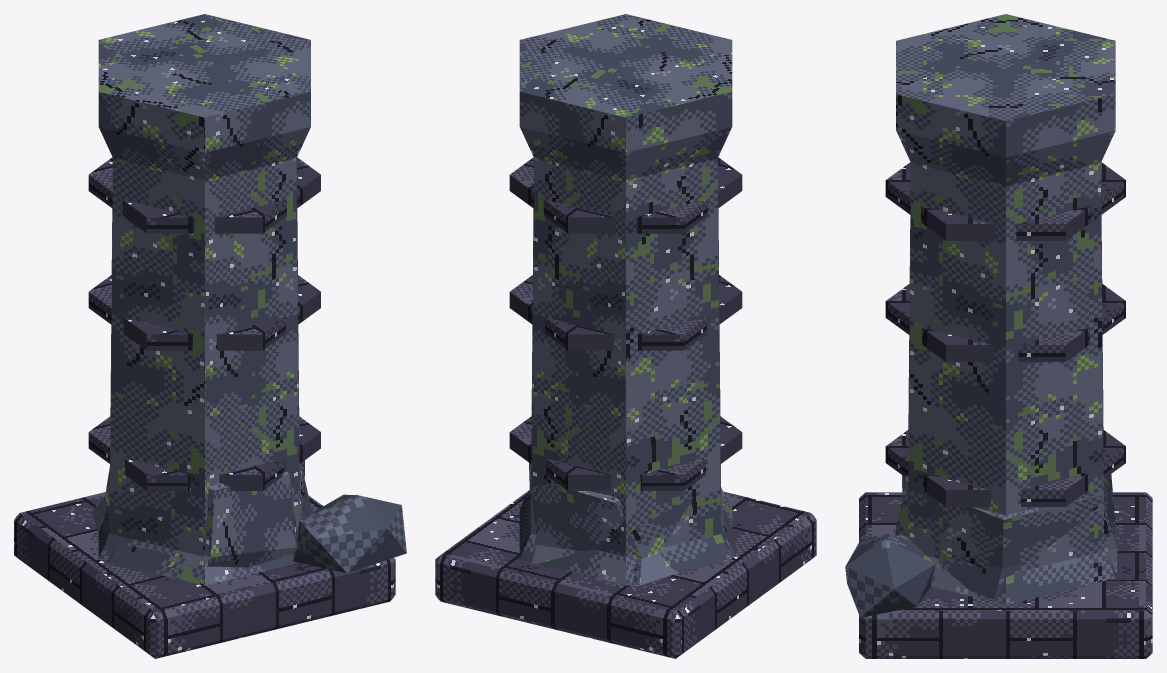
File: summit_pillar.glb
3 views of the same model, side by side, from view 1: azimuth 30°, elevation 25°; view 2: azimuth 150°, elevation 25°; view 3: azimuth 270°, elevation 25° (orthographic). The views are drawn at different scales.
Visible parts, largest first — view 1: Column, Base, Stub; view 2: Column, Base, Stub; view 3: Column, Base, Stub.
Boxes of the visible parts, x1,y1,x2,y2 form: Column: (88, 14, 320, 585); Base: (14, 492, 395, 658); Stub: (91, 460, 406, 574); Column: (509, 14, 742, 585); Base: (435, 490, 816, 658); Stub: (529, 463, 736, 585); Column: (885, 14, 1125, 604); Base: (859, 492, 1152, 658); Stub: (845, 474, 1117, 617).
Bounding box in the file's own units: 2.38 × 4.42 × 2.3.
2 materials, 2 textured.
